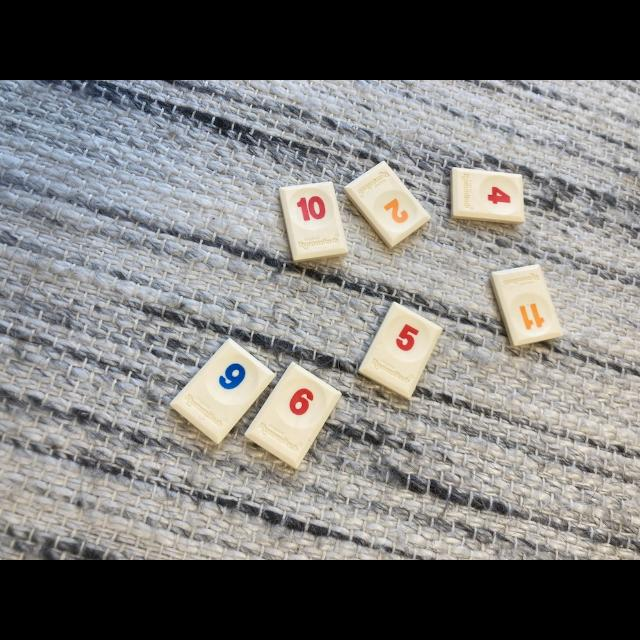blue_9: (170, 339, 275, 444)
orange_11: (491, 265, 562, 345)
orange_2: (344, 161, 430, 248)
red_10: (279, 181, 348, 261)
red_4: (453, 168, 525, 224)
red_5: (359, 302, 442, 399)
red_6: (245, 362, 341, 469)
